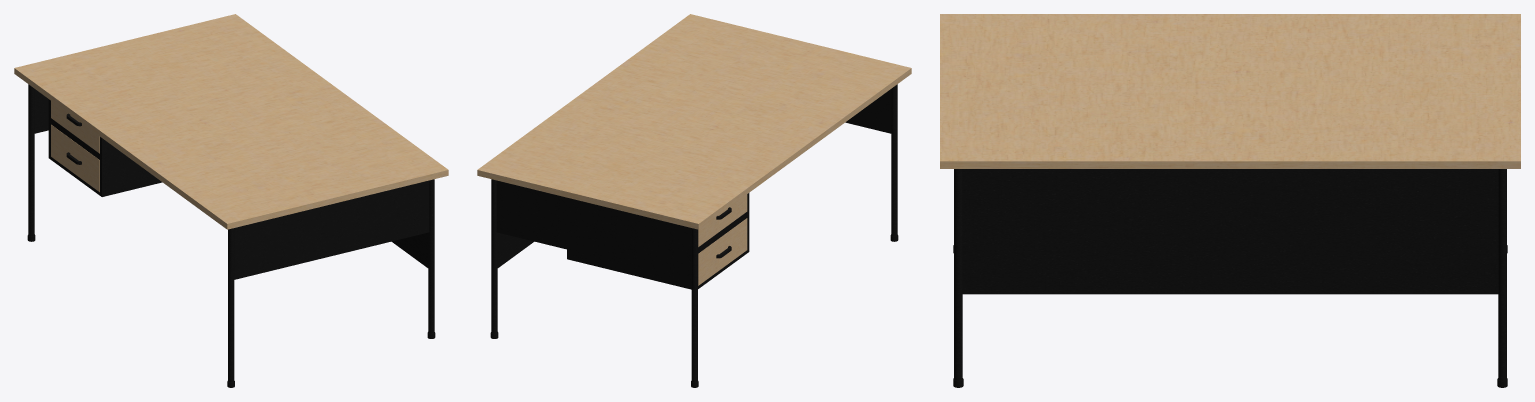
The model's file is office_table.glb.
The picture shows the model from 3 angles, left to right: view 1: azimuth 30°, elevation 25°; view 2: azimuth 150°, elevation 25°; view 3: azimuth 270°, elevation 25°; orthographic projection. The views are drawn at different scales.
Parts seen in each view (by area): view 1: office_table, latch_2, latch_1; view 2: office_table, latch_2, latch_1; view 3: office_table.
Part boxes in pixels (x1,y1,x2,y2): office_table: (14,14,448,387); latch_2: (51,124,99,191); latch_1: (51,101,99,153); office_table: (477,14,911,387); latch_2: (698,218,747,285); latch_1: (698,194,747,246); office_table: (940,14,1520,387).
Size of the model in its own units: 1.2 by 0.88 by 2.
2 materials, 2 textured.
